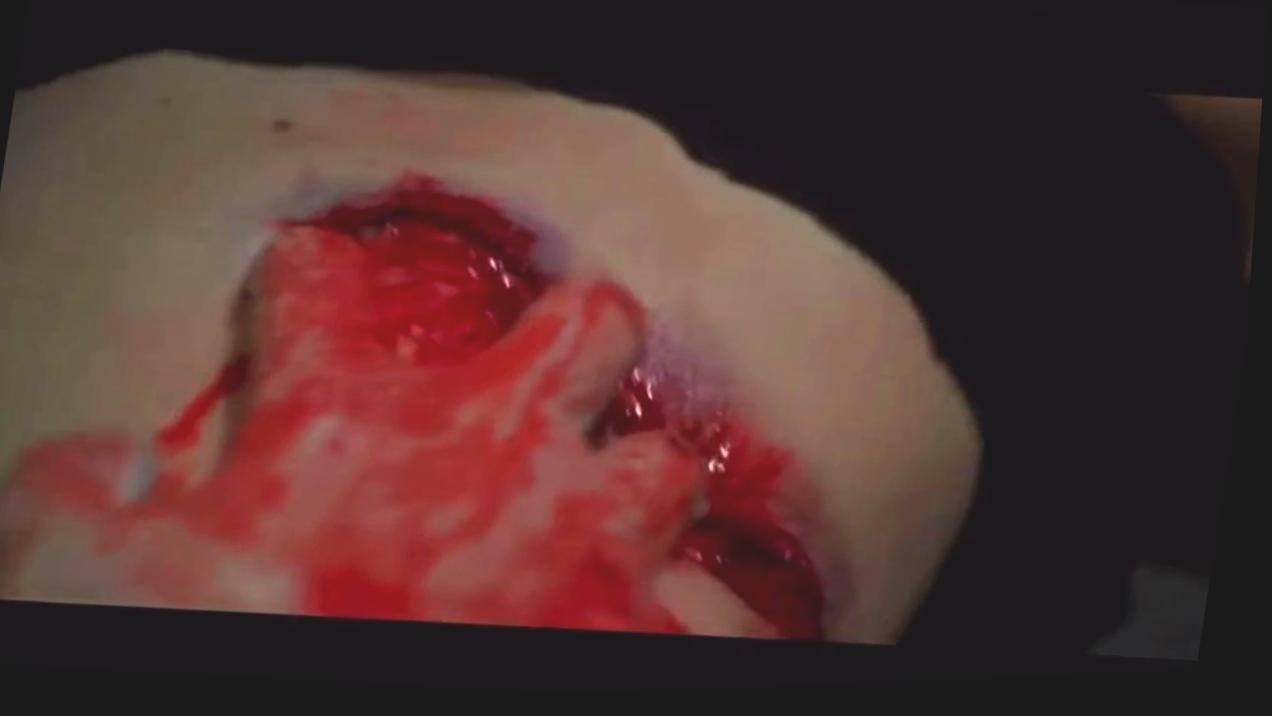Fire: (0, 178, 861, 645)
